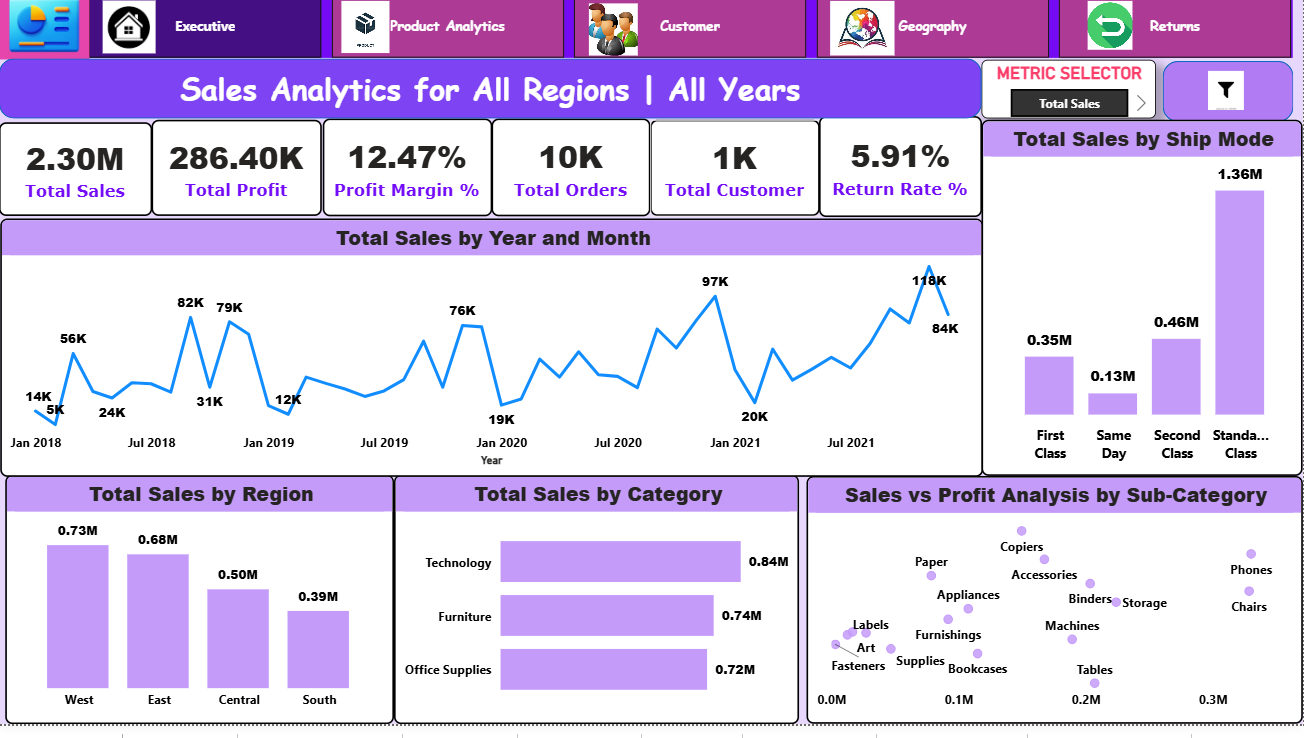

The dashboard page shown, as its layout file describes it:
{"tool":"powerbi","page":{"name":"Executive","canvas":[1280,720],"ordinal":0},"visuals":[{"type":"card","fields":{"Values":["Measure.Total Profit"]},"box":[150.3,126.6,167,94.6],"z":0},{"type":"card","fields":{"Values":["Measure.Profit Margin %"]},"box":[317.7,125.3,166.2,96.2],"z":1000},{"type":"card","fields":{"Values":["Measure.Total Order"]},"box":[483.9,125.3,156,96.2],"z":2000},{"type":"card","fields":{"Values":["Measure.Total Customer"]},"box":[639.9,126.8,166.2,94.7],"z":3000},{"type":"card","fields":{"Values":["Measure.Return Rate %"]},"box":[804.6,122.4,160.3,99.1],"z":4000},{"type":"clusteredColumnChart","fields":{"Y":["Measure.Total Sales"],"Category":["Orders.Region"]},"box":[5.8,475.2,381.9,244.9],"z":5000},{"type":"barChart","fields":{"Y":["Measure.Total Sales"],"Category":["Orders.Category"]},"box":[387.7,475.2,397.9,244.9],"z":6000},{"type":"lineChart","fields":{"Y":["Measure.Total Sales"],"Category":["Date Table.Date.Variation.Date Hierarchy.Year","Date Table.Date.Variation.Date Hierarchy.Month"]},"box":[1.5,223,964.9,253.6],"z":7000},{"type":"pageNavigator","box":[88.3,2.8,1181.9,63.1],"z":8000},{"type":"image","box":[97.2,4.1,62.1,63.5],"z":9000},{"type":"image","box":[330.9,5.4,56.7,60.8],"z":10000},{"type":"image","box":[574,6.8,58.1,60.8],"z":11000},{"type":"image","box":[811.7,5.4,72.9,63.5],"z":12000},{"type":"image","box":[1064.2,5.4,54,58.1],"z":13000},{"type":"slicer","title":"METRIC SELECTOR","fields":{"Values":["Parameter.Parameter"]},"box":[964.6,67.3,171,57.5],"z":14000},{"type":"shape","box":[1142.7,68.5,128.3,59.8],"z":15000},{"type":"image","box":[1179.9,73.4,48.4,48.4],"z":16000},{"type":"image","box":[0,0,89.1,67.5],"z":17000},{"type":"shape","box":[0,65.9,964.6,58.9],"z":18000},{"type":"scatterChart","title":"Sales vs Profit Analysis by Sub-Category","fields":{"X":["Measure.Total Sales"],"Y":["Measure.Total Profit"],"Category":["Orders.Sub-Category"]},"box":[792.9,476.6,486.8,243.4],"z":19000},{"type":"card","fields":{"Values":["Measure.Total Sales"]},"box":[0,128.3,150.1,91.8],"z":21000},{"type":"lineClusteredColumnComboChart","fields":{"Y":["Measure.Total Sales"],"Category":["Orders.Ship Mode"]},"box":[964.9,126.8,314.8,349.8],"z":22000}]}

Visuals, with their boxes in screenshot pixels (x1, y1, x2, y2), scaled from the page's 1280x720 canvas onto the 1304x738 screenshot:
card - Measure.Total Profit: detection(153, 130, 323, 227)
card - Measure.Profit Margin %: detection(324, 128, 493, 227)
card - Measure.Total Order: detection(493, 128, 652, 227)
card - Measure.Total Customer: detection(652, 130, 821, 227)
card - Measure.Return Rate %: detection(820, 125, 983, 227)
clusteredColumnChart - Measure.Total Sales x Orders.Region: detection(6, 487, 395, 737)
barChart - Measure.Total Sales x Orders.Category: detection(395, 487, 800, 737)
lineChart - Measure.Total Sales x Date Table.Date.Variation.Date Hierarchy.Year: detection(2, 229, 985, 489)
pageNavigator: detection(90, 3, 1294, 68)
image: detection(99, 4, 162, 69)
image: detection(337, 6, 395, 68)
image: detection(585, 7, 644, 69)
image: detection(827, 6, 901, 71)
image: detection(1084, 6, 1139, 65)
"METRIC SELECTOR" slicer: detection(983, 69, 1157, 128)
shape: detection(1164, 70, 1295, 132)
image: detection(1202, 75, 1251, 125)
image: detection(0, 0, 91, 69)
shape: detection(0, 68, 983, 128)
"Sales vs Profit Analysis by Sub-Category" scatterChart: detection(808, 489, 1303, 737)
card - Measure.Total Sales: detection(0, 132, 153, 226)
lineClusteredColumnComboChart - Measure.Total Sales x Orders.Ship Mode: detection(983, 130, 1303, 489)
